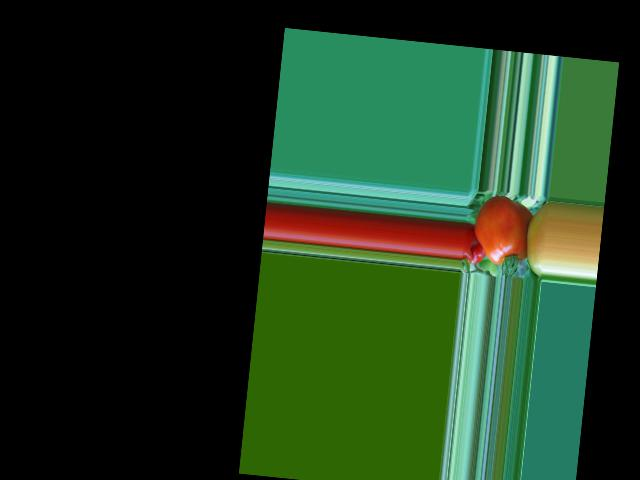tomato: (471, 193, 532, 267)
